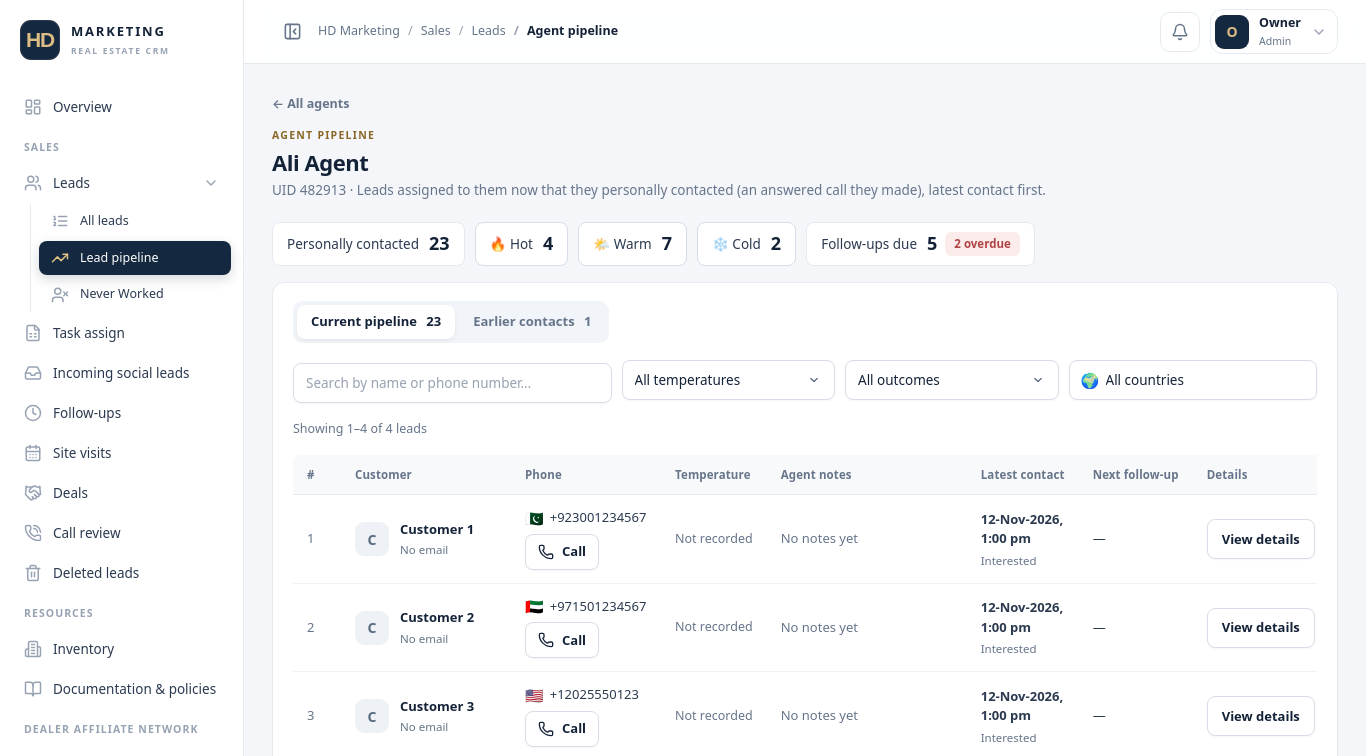
it: the Country filter › an agent's pipeline as administrators see it: its numbers for that country
Expected: the text "Customer 1" is shown, [400,520,474,538]
In the dropdown named "Filter by country": (1193, 380) [1068,360,1317,400], type "pakistan"
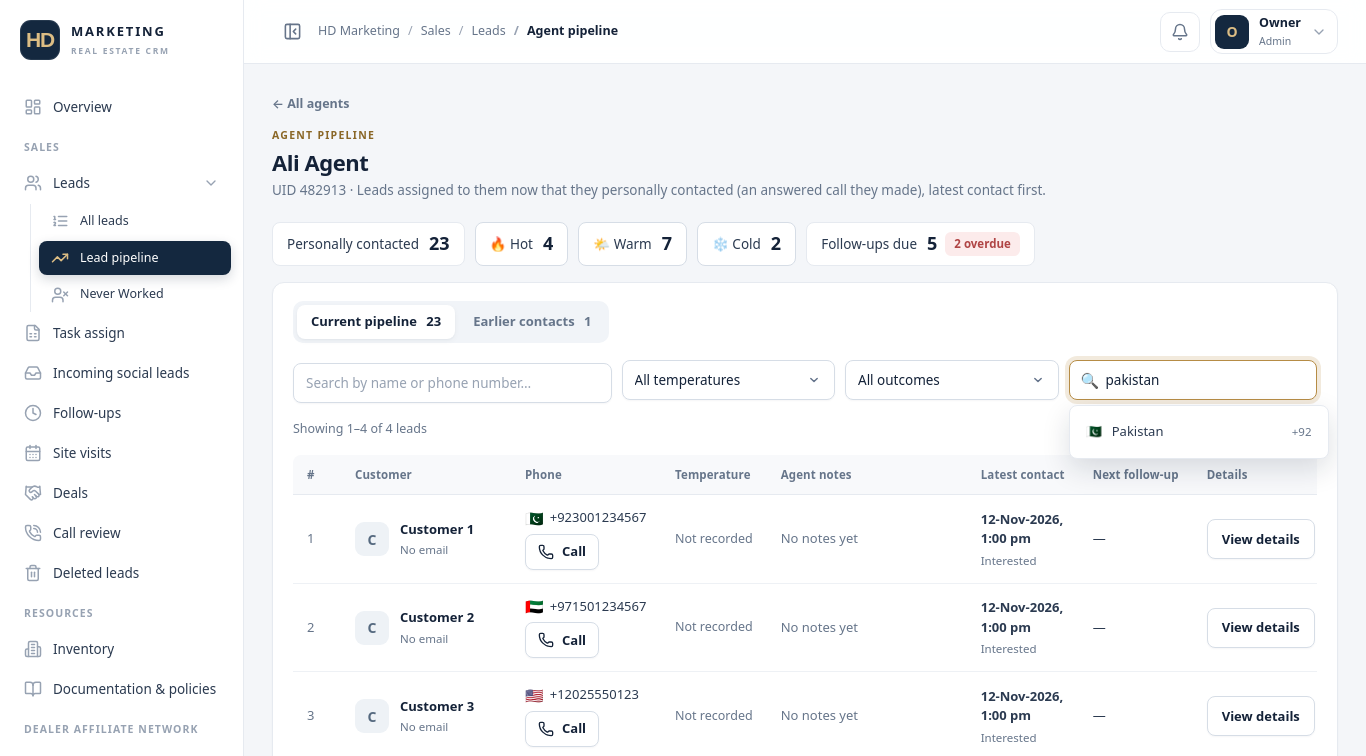
Click the option "🇵🇰 Pakistan +92": (1198, 432) [1076,412,1322,452]
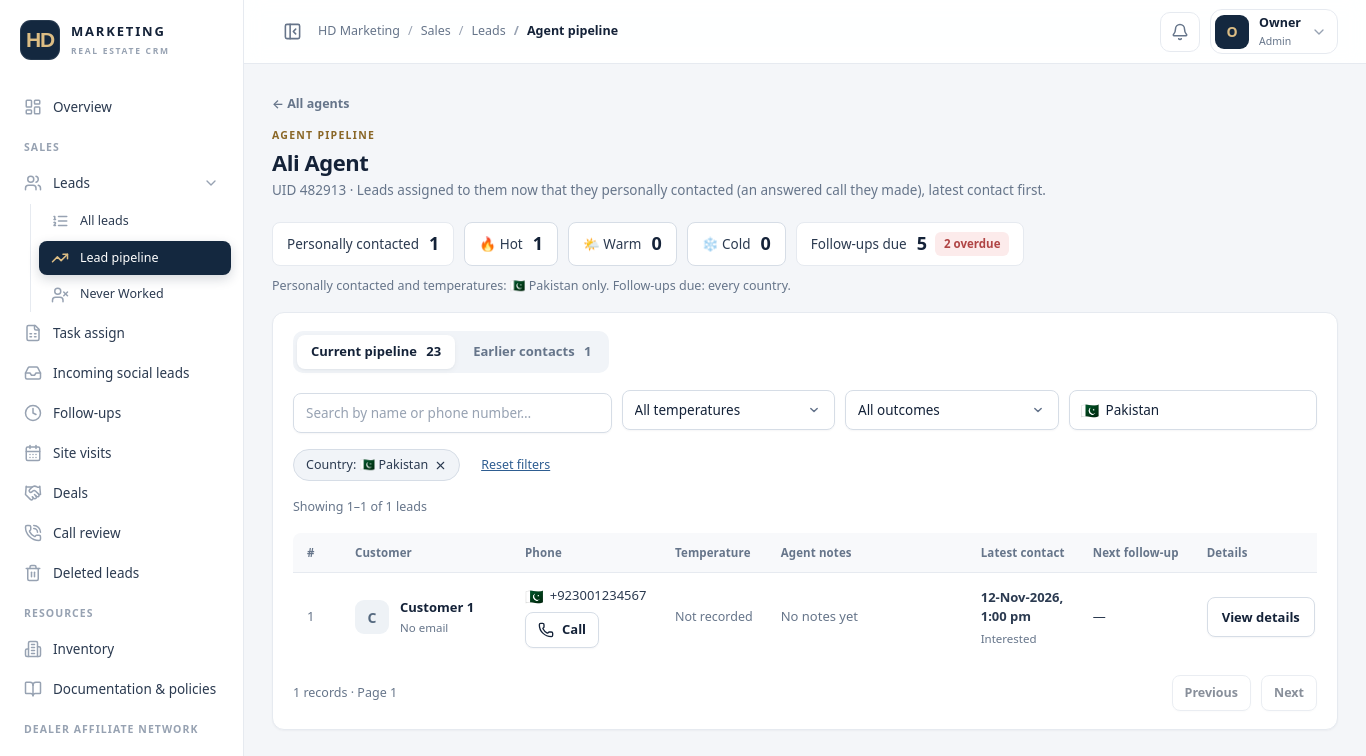
Expected: the text "Personally contacted and temperatures: 🇵🇰 Pakistan" is shown, [272,277,791,294]
